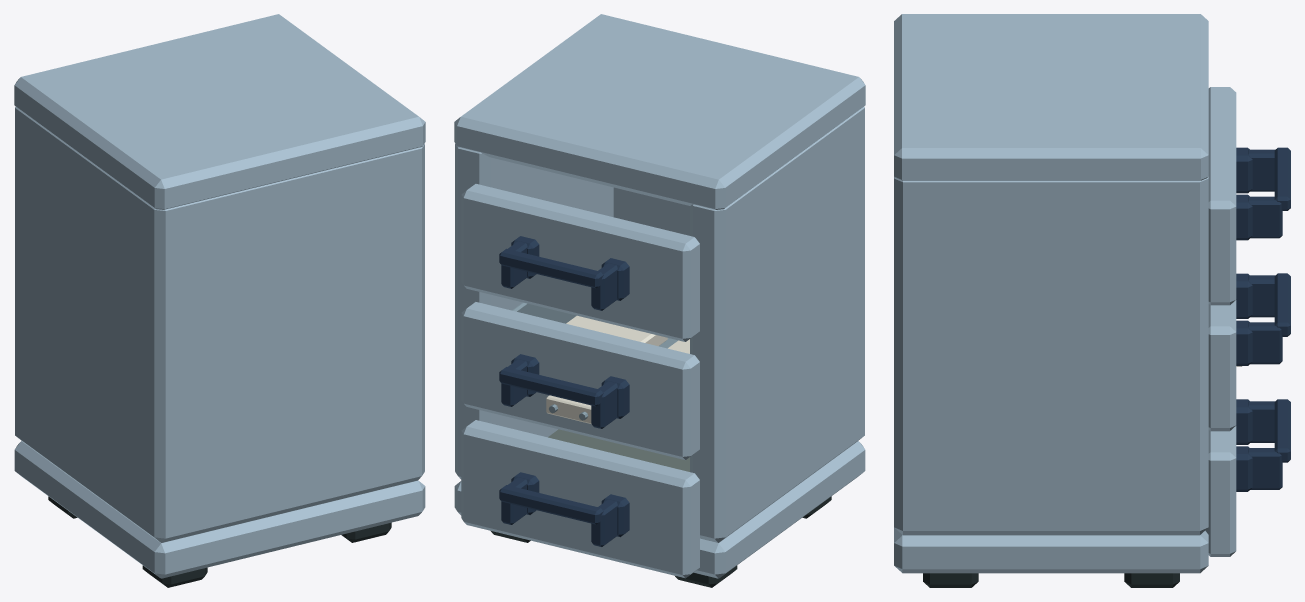
The model's file is searchable_file_cabinet.glb.
3 views of the same model, side by side, from view 1: azimuth 30°, elevation 25°; view 2: azimuth 150°, elevation 25°; view 3: azimuth 270°, elevation 25° (orthographic). The views are drawn at different scales.
Parts seen in each view (by area): view 1: body_back_wall, body_left_wall, body_roof, body_floor, body_right_wall, rubber_foot; view 2: body_left_wall, body_roof, fixed_drawer_face (×2), moving_drawer_face, body_right_wall, body_floor, fixed_drawer_pull_bar (×2), body_back_wall, moving_drawer_pull_bar, fixed_drawer_pull_left (×2), interior_lining, fixed_drawer_pull_right (×2) (+7 smaller); view 3: body_right_wall, body_roof, body_floor, fixed_drawer_face (×2), body_back_wall, moving_drawer_face, fixed_drawer_pull_right (×2), fixed_drawer_pull_left (×2), fixed_drawer_pull_bar (×2), rubber_foot (×2), fixed_drawer_pull_mount_l (×2), fixed_drawer_pull_mount_r (×2) (+5 smaller).
Boxes of the visible parts, box(x1,y1,x2,y2) form: body_back_wall: box(142, 147, 421, 542); body_left_wall: box(15, 106, 186, 542); body_roof: box(14, 14, 425, 209); body_floor: box(14, 441, 425, 578); body_right_wall: box(397, 143, 424, 485); rubber_foot: box(142, 565, 207, 587); body_left_wall: box(690, 106, 864, 542); body_roof: box(454, 14, 865, 209); fixed_drawer_face (×2): box(461, 184, 699, 578); moving_drawer_face: box(461, 302, 699, 460); body_right_wall: box(455, 143, 613, 479); body_floor: box(454, 441, 865, 578); fixed_drawer_pull_bar (×2): box(499, 248, 603, 524); body_back_wall: box(613, 111, 864, 436); moving_drawer_pull_bar: box(499, 367, 603, 406); fixed_drawer_pull_left (×2): box(591, 263, 617, 546); interior_lining: box(548, 429, 689, 471); fixed_drawer_pull_right (×2): box(501, 241, 527, 524); body_right_wall: box(894, 177, 1208, 535); body_roof: box(894, 14, 1208, 180); body_floor: box(894, 527, 1208, 573); fixed_drawer_face (×2): box(1205, 87, 1236, 556); body_back_wall: box(903, 180, 929, 535); moving_drawer_face: box(1208, 300, 1236, 431); fixed_drawer_pull_right (×2): box(1248, 196, 1282, 489); fixed_drawer_pull_left (×2): box(1248, 149, 1274, 442); fixed_drawer_pull_bar (×2): box(1274, 147, 1290, 462); rubber_foot (×2): box(923, 573, 1179, 587); fixed_drawer_pull_mount_l (×2): box(1236, 147, 1252, 444); fixed_drawer_pull_mount_r (×2): box(1236, 194, 1252, 491).
Bounding box in the file's own units: 0.72 × 1.07 × 0.8575.
